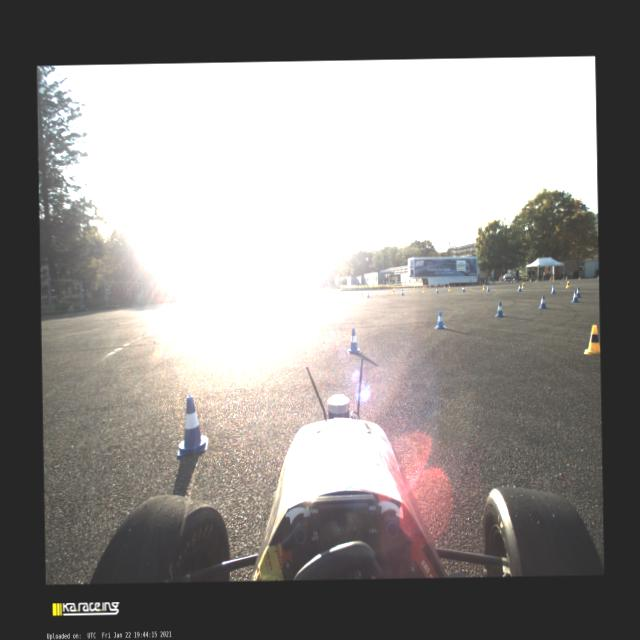blue_cone: (176, 394, 208, 456), (348, 328, 360, 353), (435, 310, 446, 328), (494, 301, 505, 317), (538, 295, 546, 308), (571, 290, 579, 302), (550, 284, 556, 294), (576, 286, 581, 297), (517, 284, 522, 292), (486, 284, 490, 291), (435, 287, 438, 293), (401, 288, 404, 294), (366, 291, 369, 297), (321, 294, 324, 300), (462, 286, 464, 292), (294, 297, 296, 301), (425, 285, 427, 288), (510, 280, 512, 283), (562, 278, 564, 280), (494, 280, 495, 284), (451, 283, 452, 286), (353, 289, 354, 292), (370, 288, 371, 290), (398, 286, 398, 289), (340, 288, 340, 292), (472, 283, 472, 285)
large_orange_cone: (550, 276, 552, 281), (565, 275, 567, 280)
yellow_cone: (583, 325, 600, 354), (565, 280, 570, 288), (482, 284, 485, 290), (528, 278, 532, 282), (360, 292, 363, 296), (392, 288, 394, 294), (422, 286, 424, 292), (522, 282, 524, 288), (448, 285, 450, 290), (578, 276, 580, 280), (552, 277, 554, 281), (535, 278, 537, 282), (443, 284, 445, 288), (412, 285, 414, 289), (358, 288, 360, 292), (597, 275, 599, 278), (466, 283, 468, 286), (517, 280, 519, 283), (521, 278, 522, 282), (338, 290, 339, 293), (378, 288, 379, 290), (322, 291, 322, 294), (500, 282, 500, 284), (314, 292, 314, 294)
